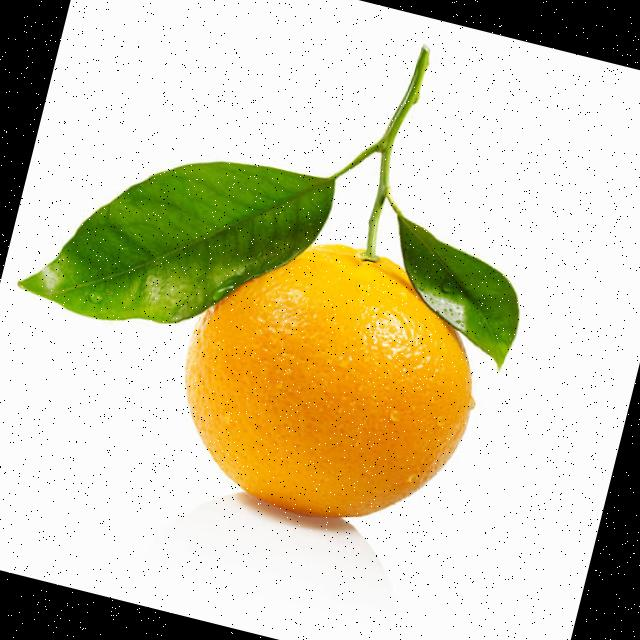orange: (185, 245, 473, 518)
